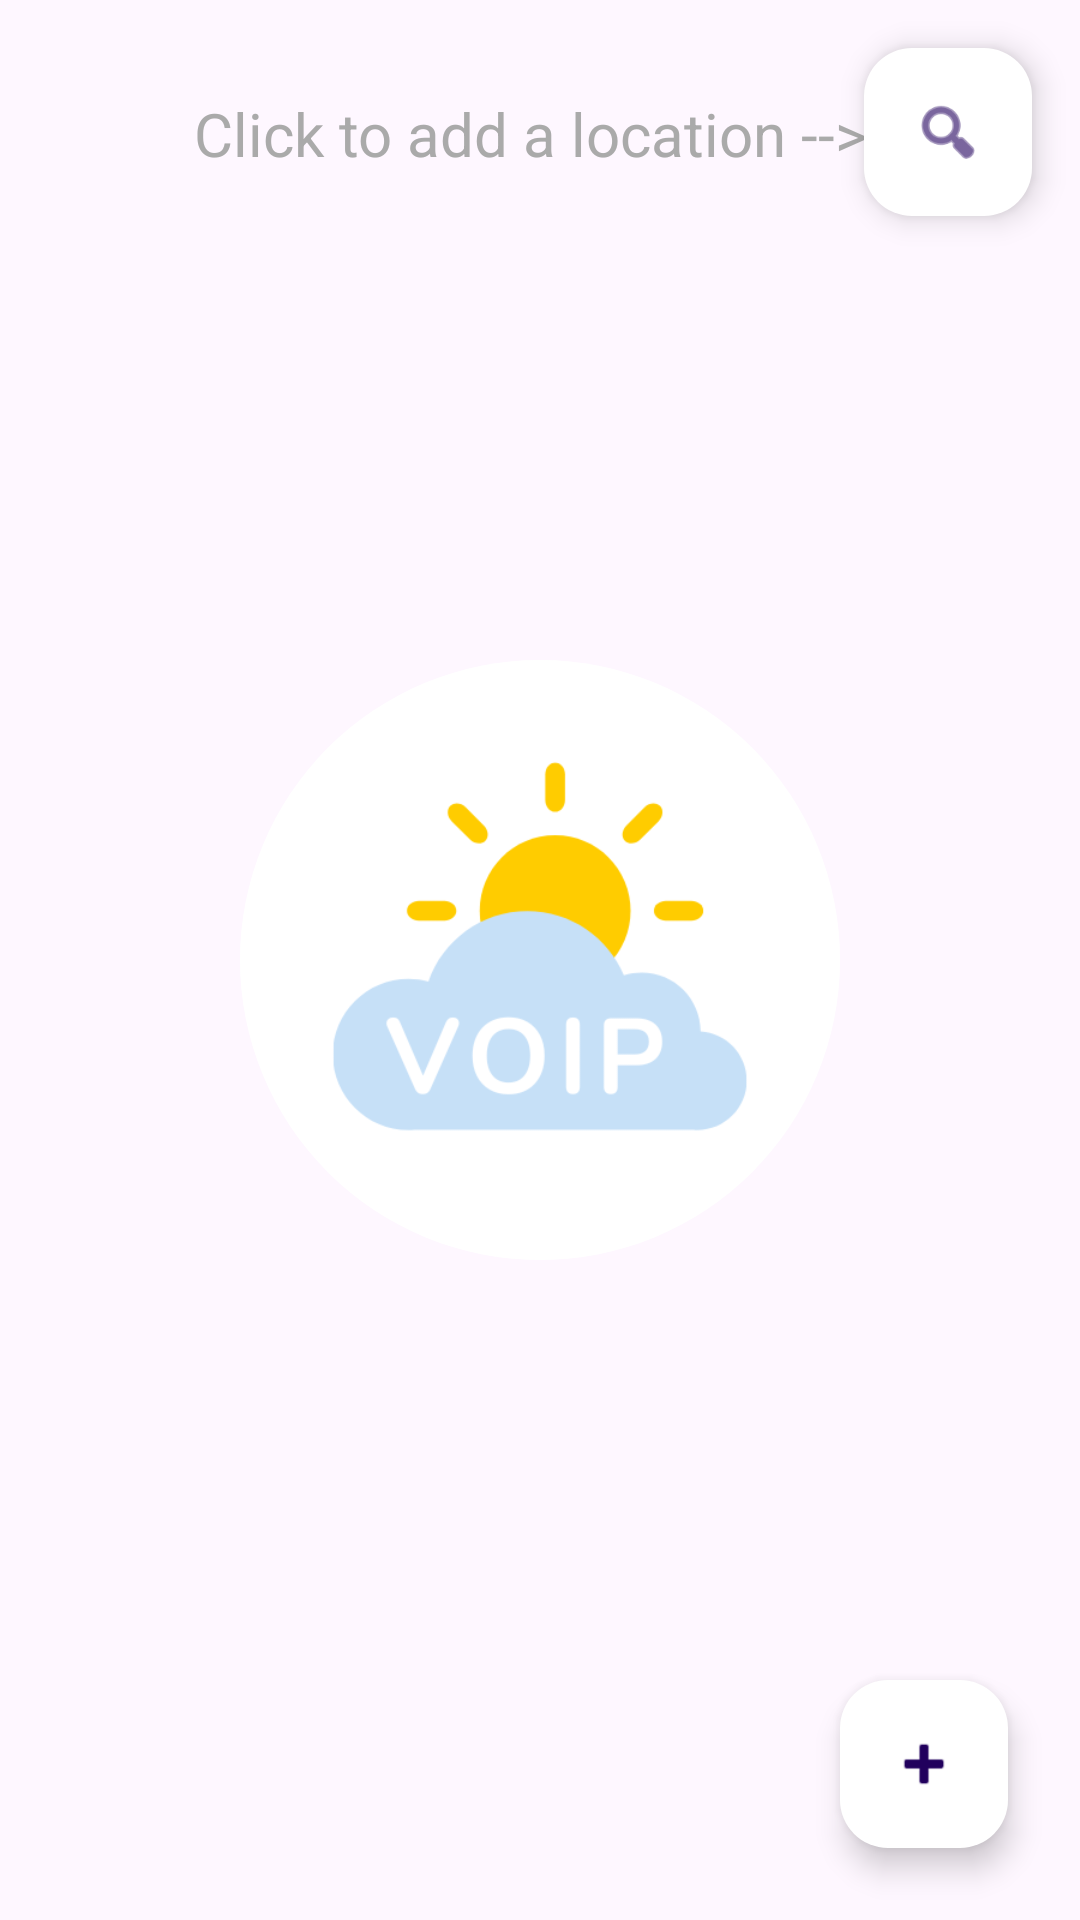

Screen size 1080×1920. Icon name, then its box in pixels as detection(x1, y1, x2, y2):
add: detection(840, 1680, 1008, 1848)
search: detection(864, 48, 1032, 216)
